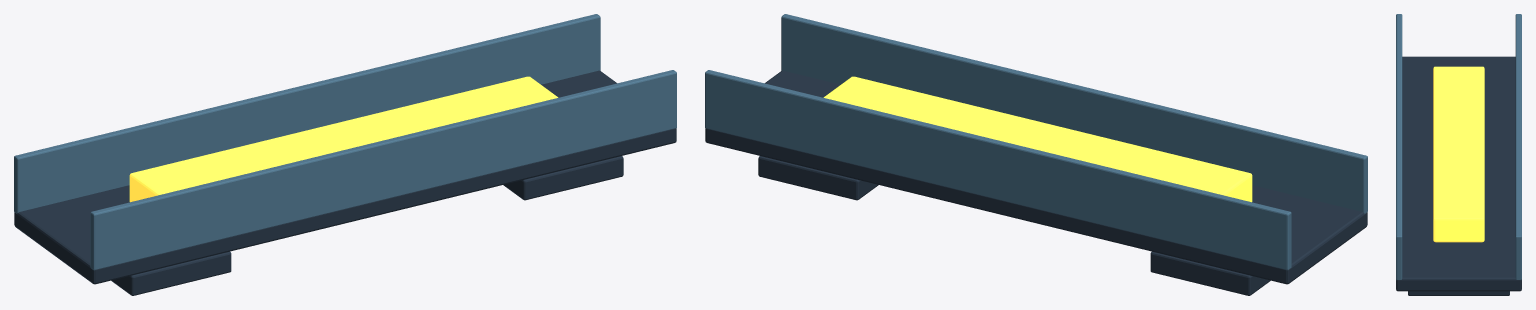
File: rebar-wagon-v4-low.glb
3 views of the same model, side by side, from view 1: azimuth 30°, elevation 25°; view 2: azimuth 150°, elevation 25°; view 3: azimuth 270°, elevation 25° (orthographic). The views are drawn at different scales.
Parts seen in each view (by area): view 1: wagon-side-s.001, wagon-side-n.001, wagon-deck.001, wagon-load-1.001, wagon-bogie-w.001, wagon-bogie-e.001; view 2: wagon-side-n.001, wagon-side-s.001, wagon-deck.001, wagon-load-1.001, wagon-bogie-w.001, wagon-bogie-e.001; view 3: wagon-deck.001, wagon-load-1.001, wagon-side-n.001, wagon-side-s.001, wagon-bogie-e.001.
Part boxes in pixels (box(x1,y1,x2,y2)): wagon-side-s.001: box(90, 70, 676, 270); wagon-side-n.001: box(14, 14, 600, 213); wagon-deck.001: box(14, 70, 676, 284); wagon-load-1.001: box(129, 76, 558, 202); wagon-bogie-w.001: box(111, 251, 231, 295); wagon-bogie-e.001: box(503, 156, 623, 200); wagon-side-n.001: box(705, 70, 1291, 270); wagon-side-s.001: box(781, 14, 1367, 213); wagon-deck.001: box(705, 70, 1367, 284); wagon-load-1.001: box(823, 76, 1252, 202); wagon-bogie-w.001: box(1150, 251, 1270, 295); wagon-bogie-e.001: box(758, 156, 878, 200); wagon-deck.001: box(1396, 56, 1521, 291); wagon-load-1.001: box(1433, 66, 1484, 242); wagon-side-n.001: box(1515, 14, 1521, 280); wagon-side-s.001: box(1396, 14, 1402, 280); wagon-bogie-e.001: box(1408, 291, 1509, 295).
Size of the model in its own units: 13.4 by 2.18 by 3.2.
